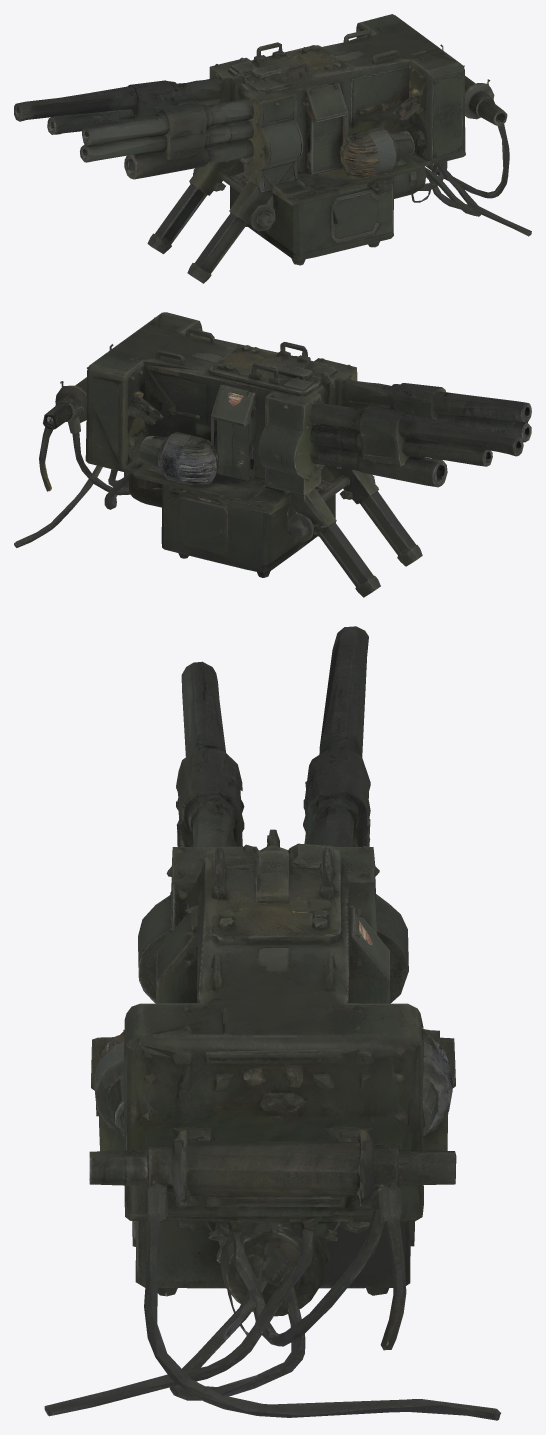
File: minigun.glb
3 renders of one model, top to bottom at view 1: azimuth 30°, elevation 25°; view 2: azimuth 150°, elevation 25°; view 3: azimuth 270°, elevation 25°, orthographic. The views are drawn at different scales.
Bounding box in the file's own units: 1.9 × 0.7763 × 0.8494.
1 material, 1 textured.
